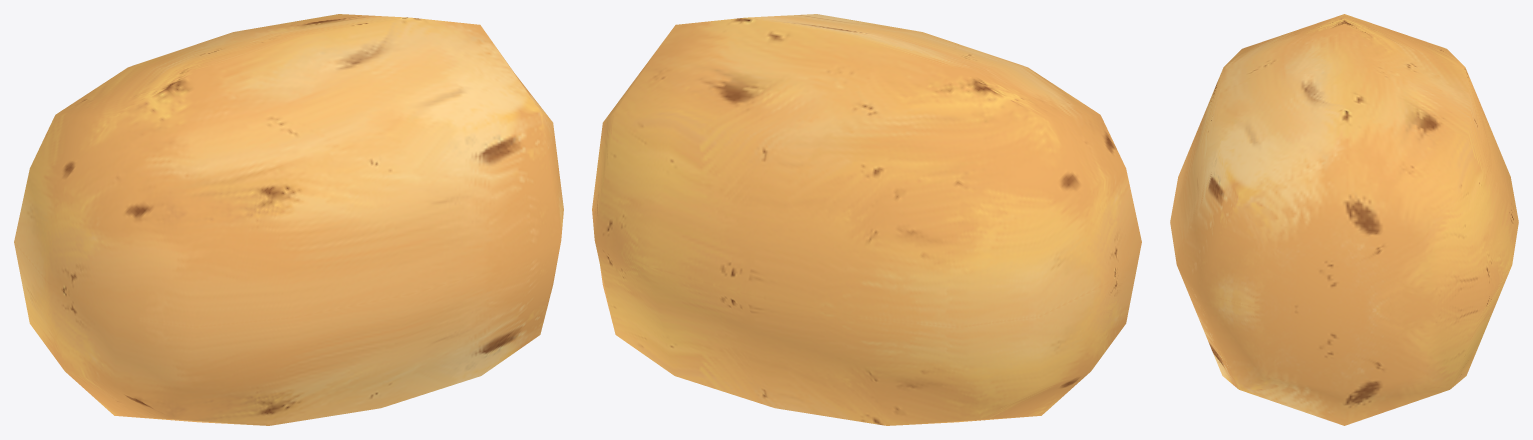
File: potato.glb
3 renders of one model, left to right at view 1: azimuth 30°, elevation 25°; view 2: azimuth 150°, elevation 25°; view 3: azimuth 270°, elevation 25°, orthographic. The views are drawn at different scales.
Visible parts, largest first — view 1: Object_2; view 2: Object_2; view 3: Object_2.
Boxes of the visible parts, x1,y1,x2,y2 form: Object_2: [14, 14, 563, 425]; Object_2: [592, 14, 1141, 425]; Object_2: [1170, 14, 1518, 425].
Size of the model in its own units: 0.2357 by 0.1755 by 0.1755.
Materials: 1 (1 with a texture image).
